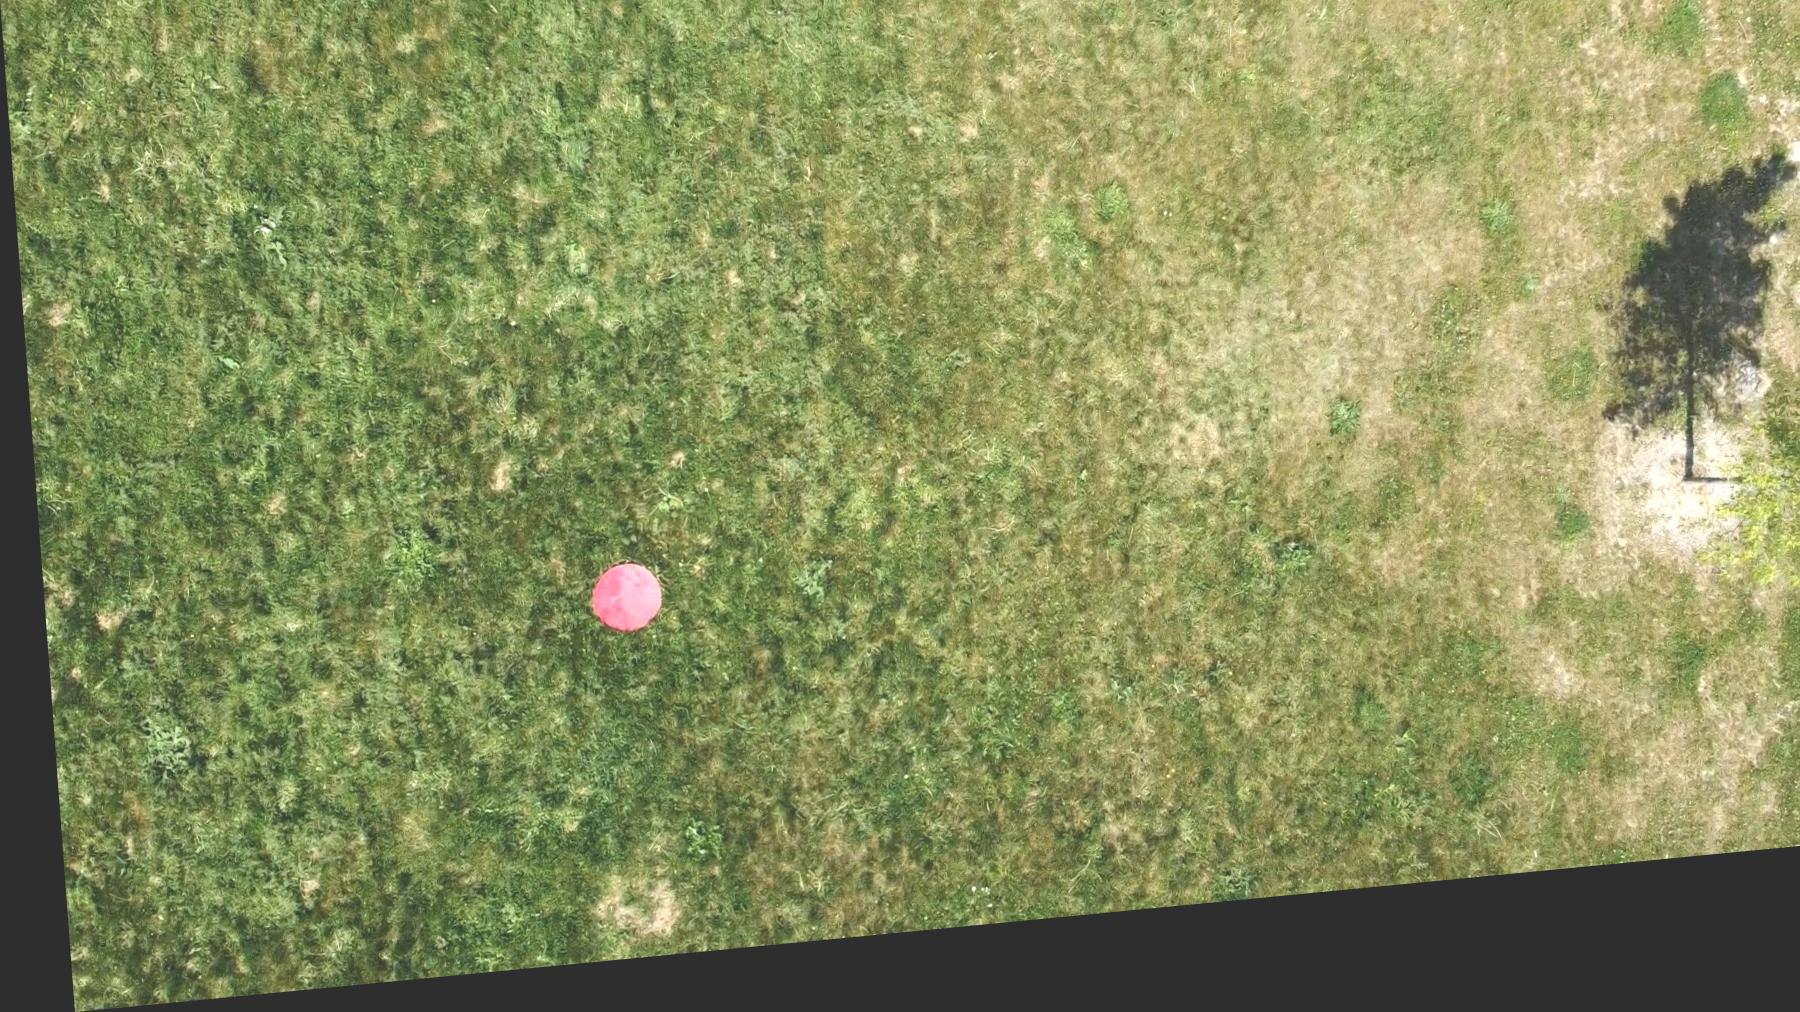Red: (577, 568, 655, 649)
